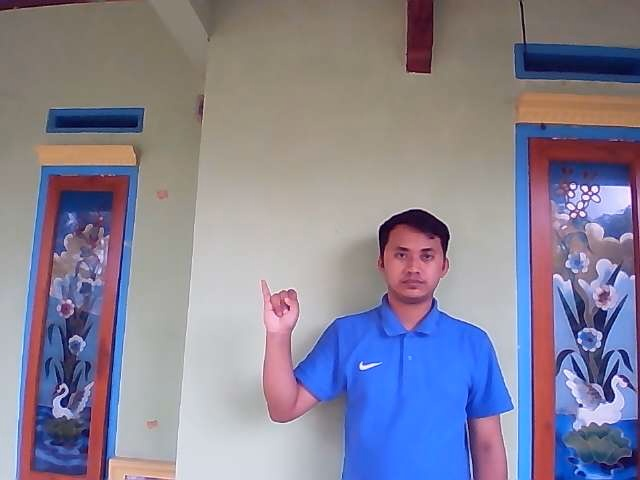I: (261, 277, 302, 336)
